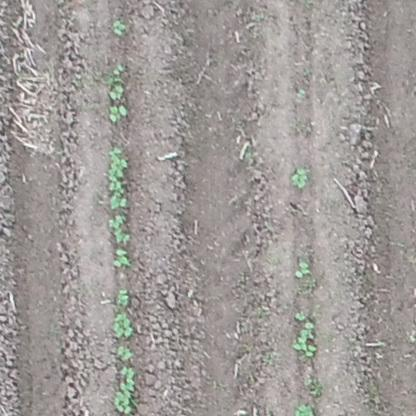vc: (107, 147, 128, 210), (107, 66, 128, 122), (114, 369, 138, 412), (294, 324, 318, 360), (107, 215, 133, 244), (114, 313, 135, 340), (289, 166, 312, 189), (112, 248, 131, 269), (116, 344, 135, 364), (295, 260, 312, 279), (116, 288, 132, 307), (111, 19, 126, 37), (295, 311, 305, 321)
